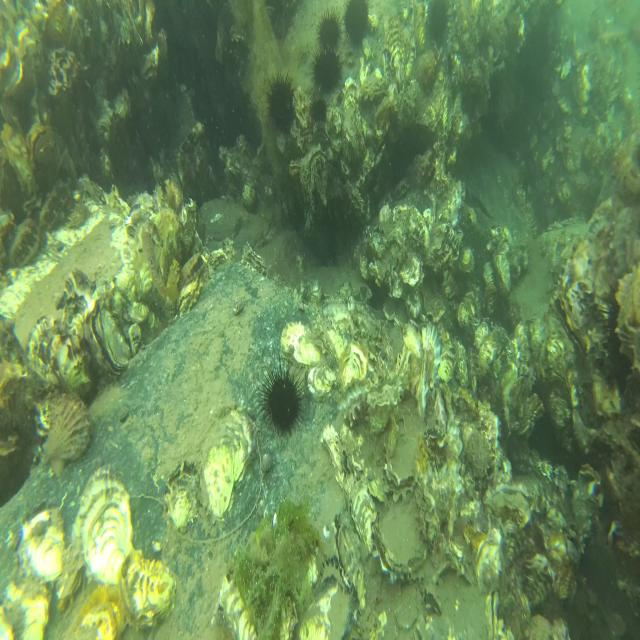echinus: (257, 351, 311, 445), (264, 70, 297, 139), (341, 0, 373, 51), (310, 46, 345, 91), (427, 3, 455, 51), (318, 5, 343, 50), (306, 89, 330, 128)
scallop: (40, 388, 95, 471)
